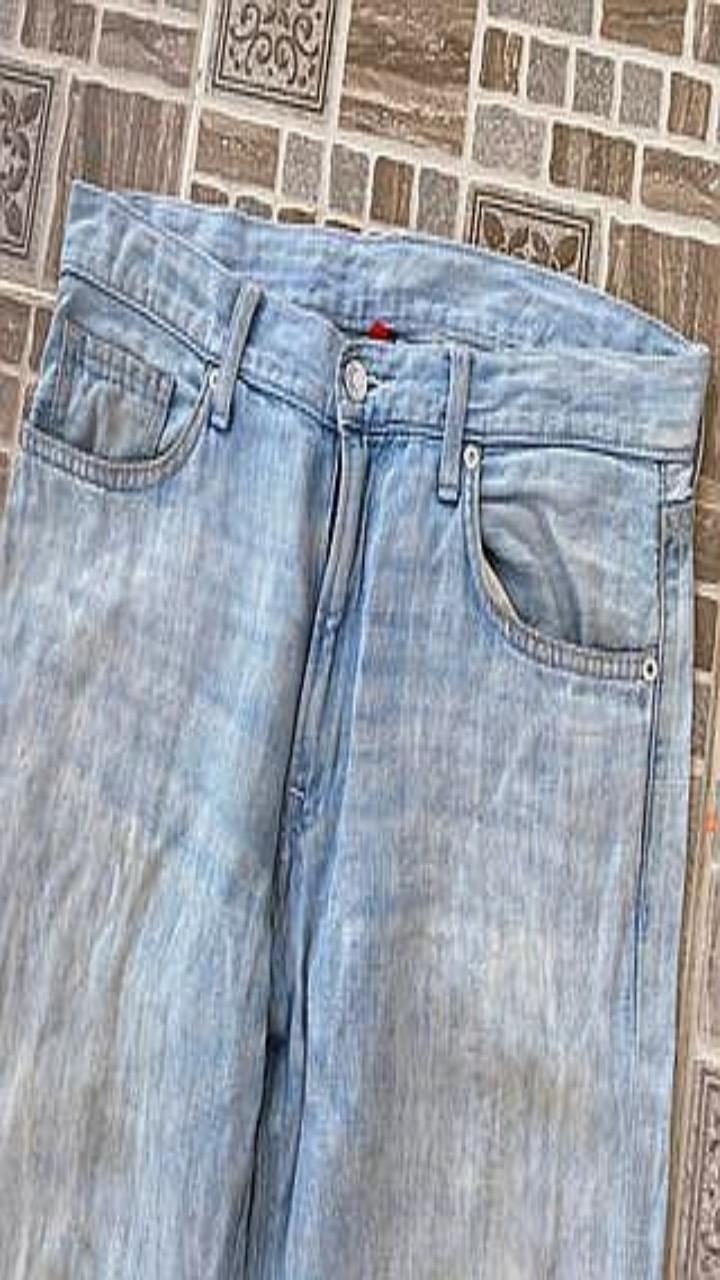Jeans: (0, 180, 709, 1279)
